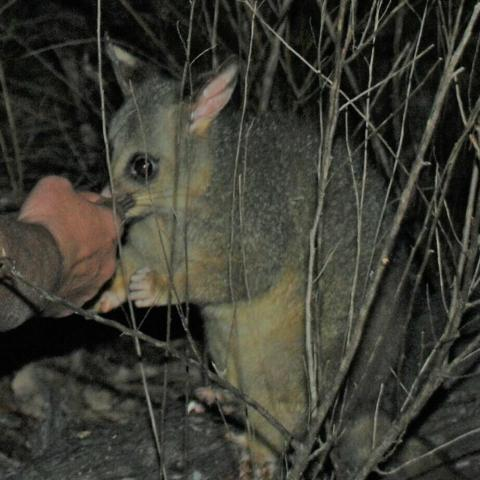small_animal: (89, 37, 429, 462)
